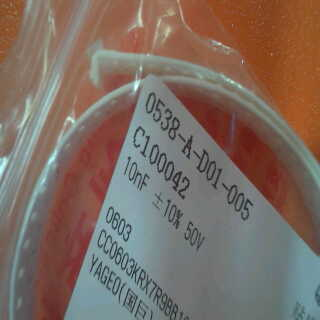10nF: (112, 153, 158, 193)
